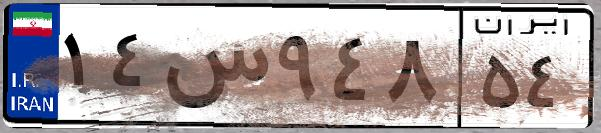1: (57, 26, 110, 100)
4: (330, 28, 385, 110), (525, 38, 570, 115), (110, 28, 158, 98)
5: (475, 38, 525, 113)
8: (385, 28, 445, 110)
9: (270, 28, 330, 110)
س: (158, 20, 270, 120)
